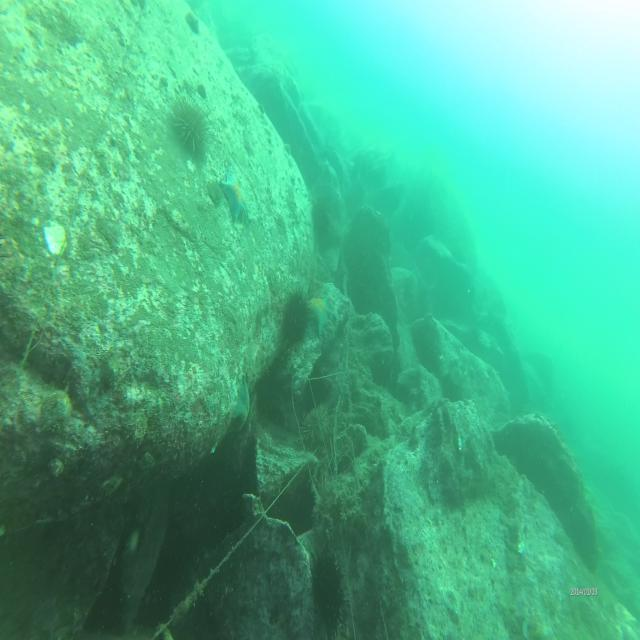echinus: (173, 99, 210, 158), (283, 291, 308, 345)
starfish: (219, 168, 251, 224), (308, 291, 332, 337)
